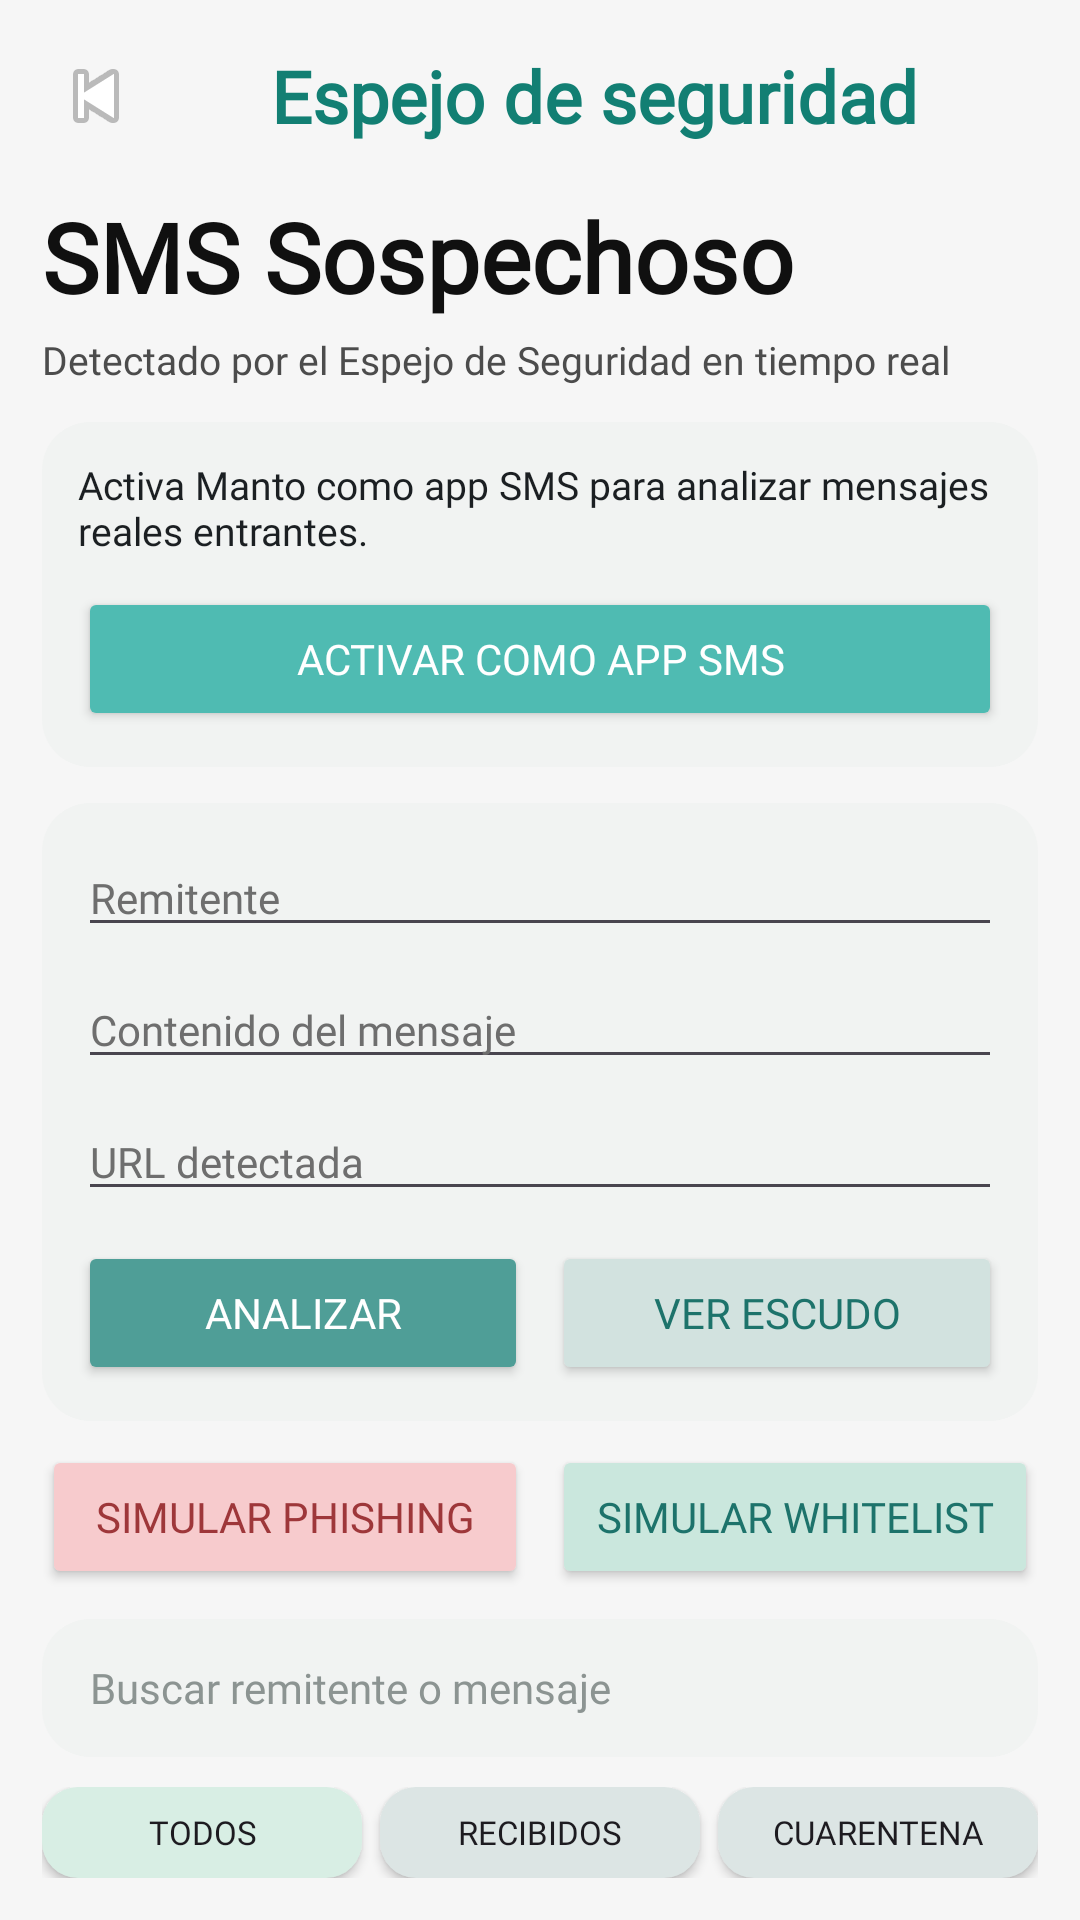

Icons on this 1080x1920 Android screen, each with its box as (x1, y1, x2, y2):
Volver: (73, 69, 119, 123)
